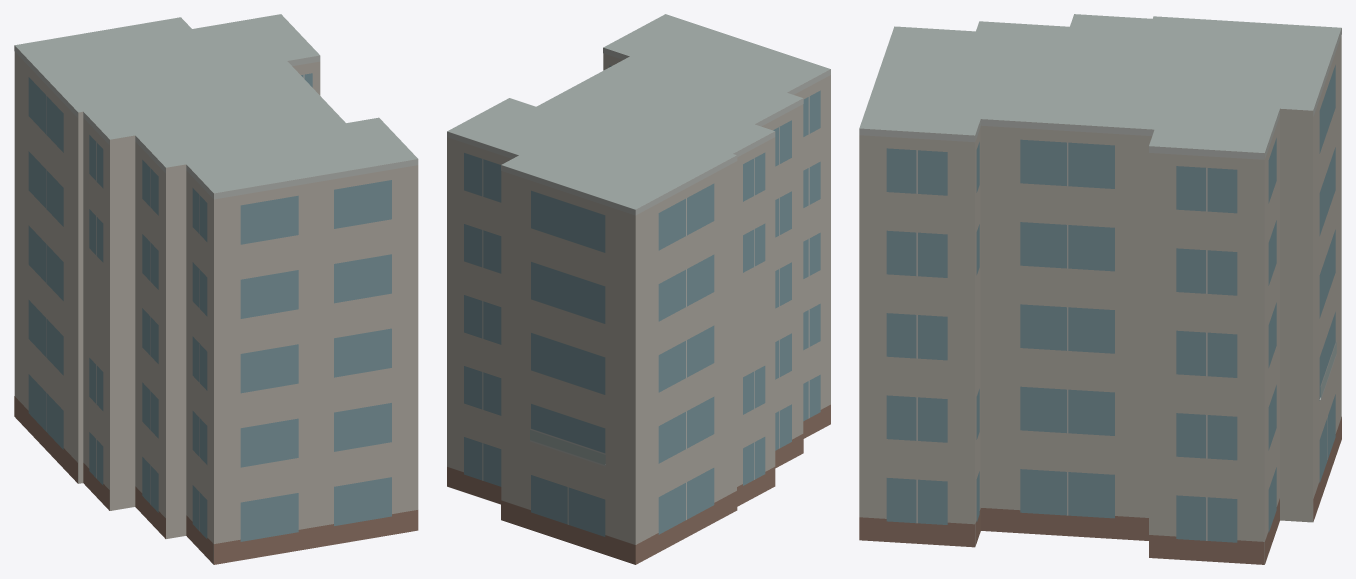
File: survey-upis-32545141.glb
3 views of the same model, side by side, from view 1: azimuth 30°, elevation 25°; view 2: azimuth 150°, elevation 25°; view 3: azimuth 270°, elevation 25° (orthographic). The views are drawn at different scales.
Parts seen in each view (by area): view 1: survey-upis-32545141.tmp; view 2: survey-upis-32545141.tmp; view 3: survey-upis-32545141.tmp.
Part boxes in pixels (x1=…): survey-upis-32545141.tmp: x1=14, y1=14, x2=418, y2=564; survey-upis-32545141.tmp: x1=447, y1=14, x2=830, y2=564; survey-upis-32545141.tmp: x1=859, y1=14, x2=1341, y2=564.
Size of the model in its own units: 10.84 by 14.95 by 15.89.
